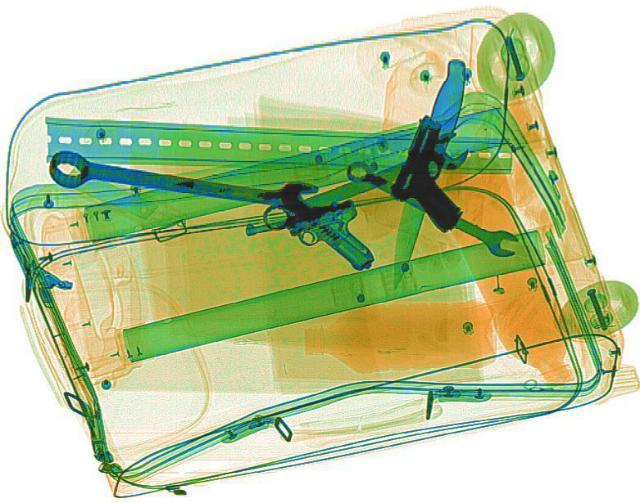Gun: (375, 113, 497, 232), (240, 198, 382, 289)
Knife: (380, 55, 472, 290)
Wrench: (42, 146, 328, 217), (334, 155, 526, 260)
